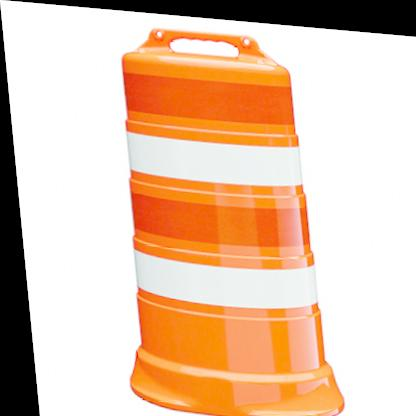obstacle: (102, 33, 352, 416)
